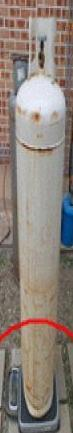cylinder: (1, 1, 73, 433)
